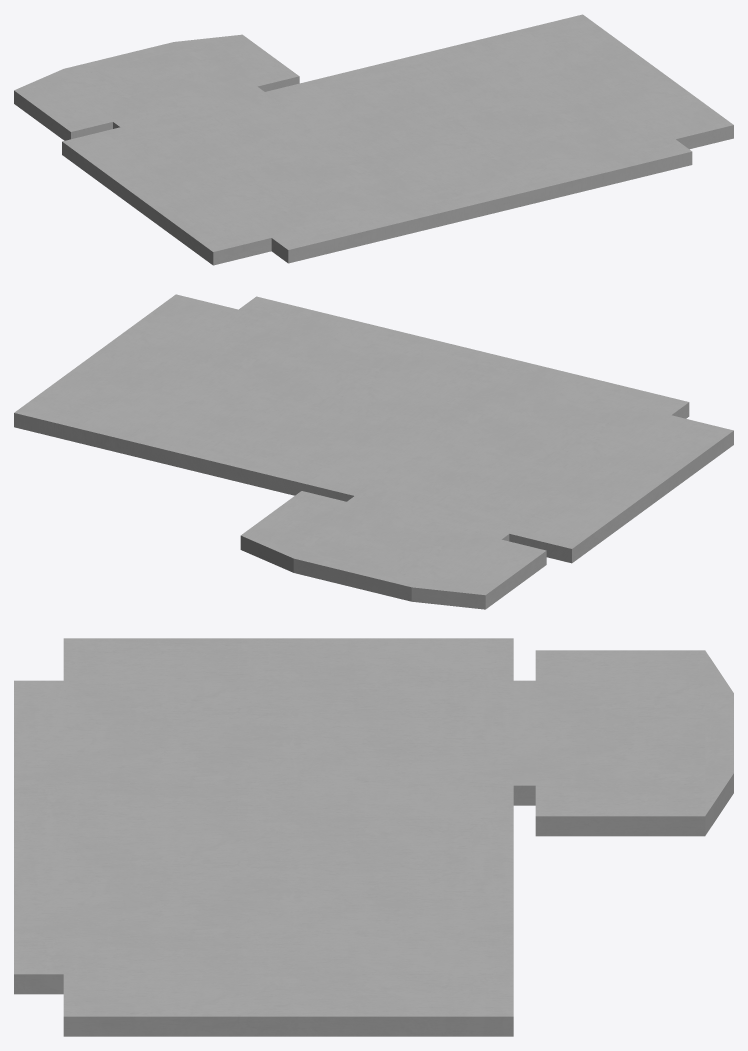
Rendered from CR04_Ceilling.FBX.
3 views of the same model, one above another, from view 1: azimuth 30°, elevation 25°; view 2: azimuth 150°, elevation 25°; view 3: azimuth 270°, elevation 25° (orthographic). The views are drawn at different scales.
Parts seen in each view (by area): view 1: CR04_Ceilling; view 2: CR04_Ceilling; view 3: CR04_Ceilling.
Part boxes in pixels (x1,y1,x2,y2): CR04_Ceilling: (14,14,733,265); CR04_Ceilling: (14,294,733,609); CR04_Ceilling: (14,638,733,1036).
Size of the model in its own units: 8301 by 205 by 6679.
